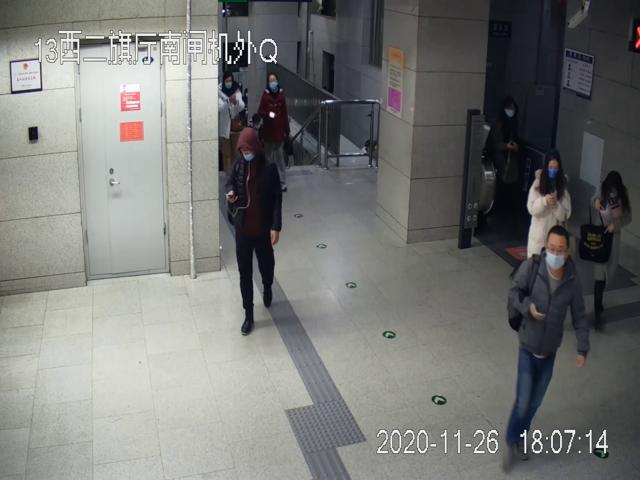person: (502, 226, 591, 464), (223, 128, 283, 334), (587, 170, 633, 334), (527, 151, 571, 262), (259, 73, 290, 193), (216, 72, 246, 168)
